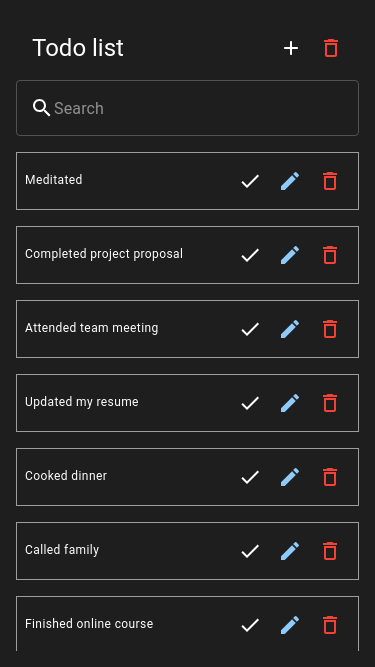
Test: Should cover all functionalities from the todo list app in mobile environment › Should edit a task
Click the 1st icon with test id "btn-edit".
click(290, 181)  # box [278, 169, 302, 193]
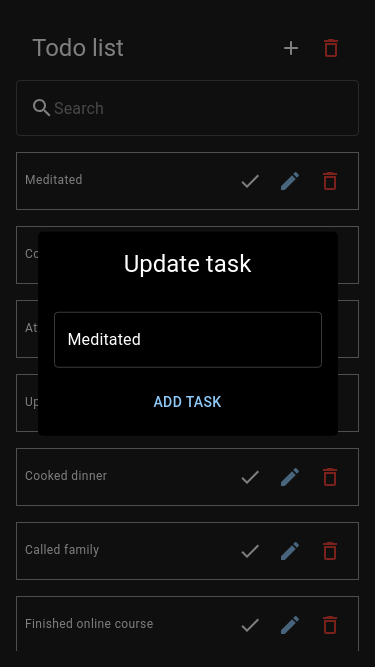
Replace the text in the field with "updatedTask" at (188, 339), box [54, 311, 322, 367]
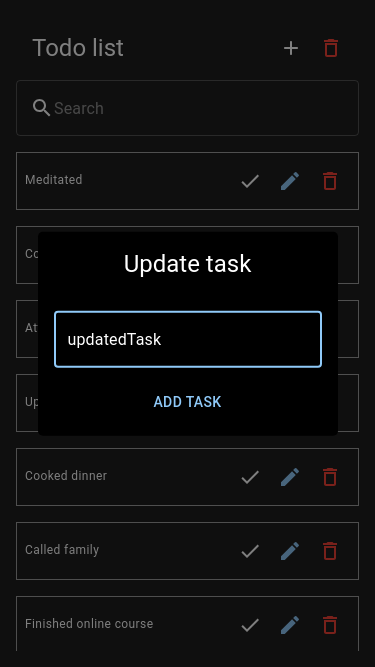
Click the button with test id "btn-submit".
click(188, 402)  # box [54, 383, 322, 420]
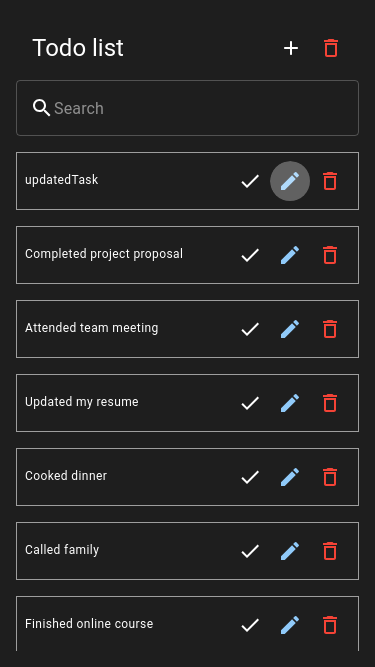
Now the list item with test id "card-row-0" reads "updatedTask", box [16, 152, 359, 210]
